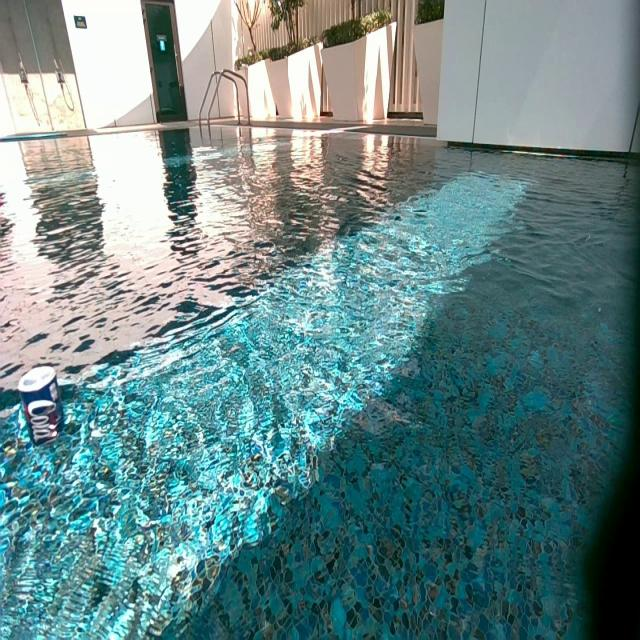Cans: (20, 362, 60, 418)
